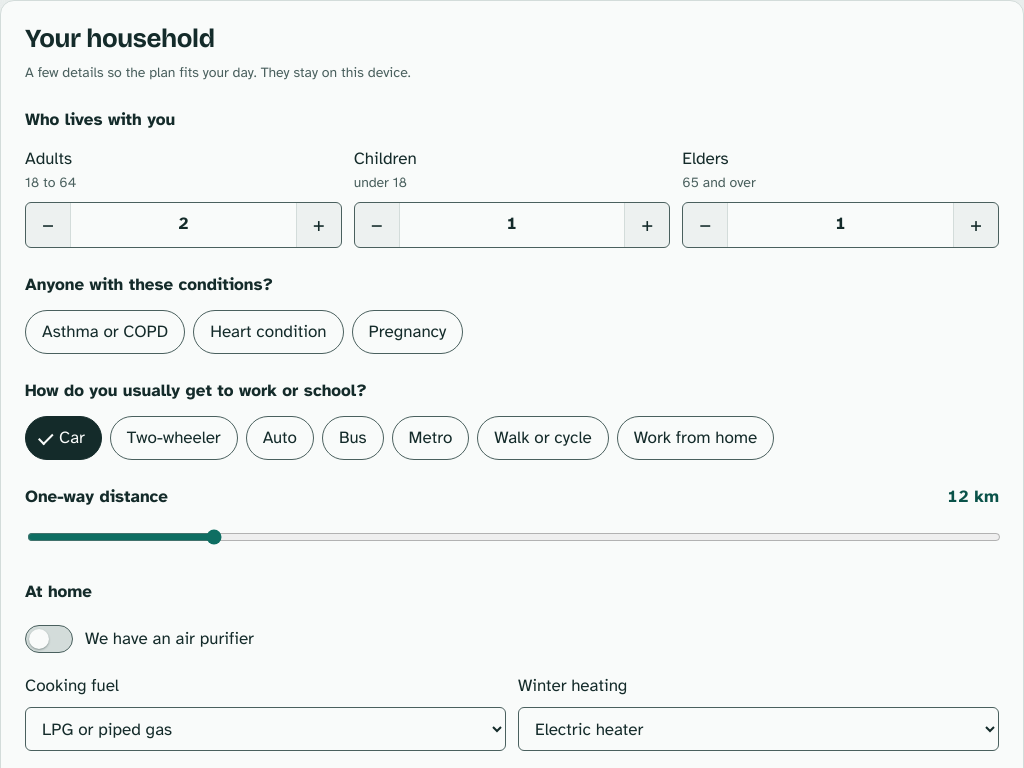
Scenario: HouseholdForm inputs › lets people clear and retype a number, committing only valid values
Clear the number field labelled "Elders 65 and over" at {"x": 841, "y": 225}, box [727, 203, 954, 247]
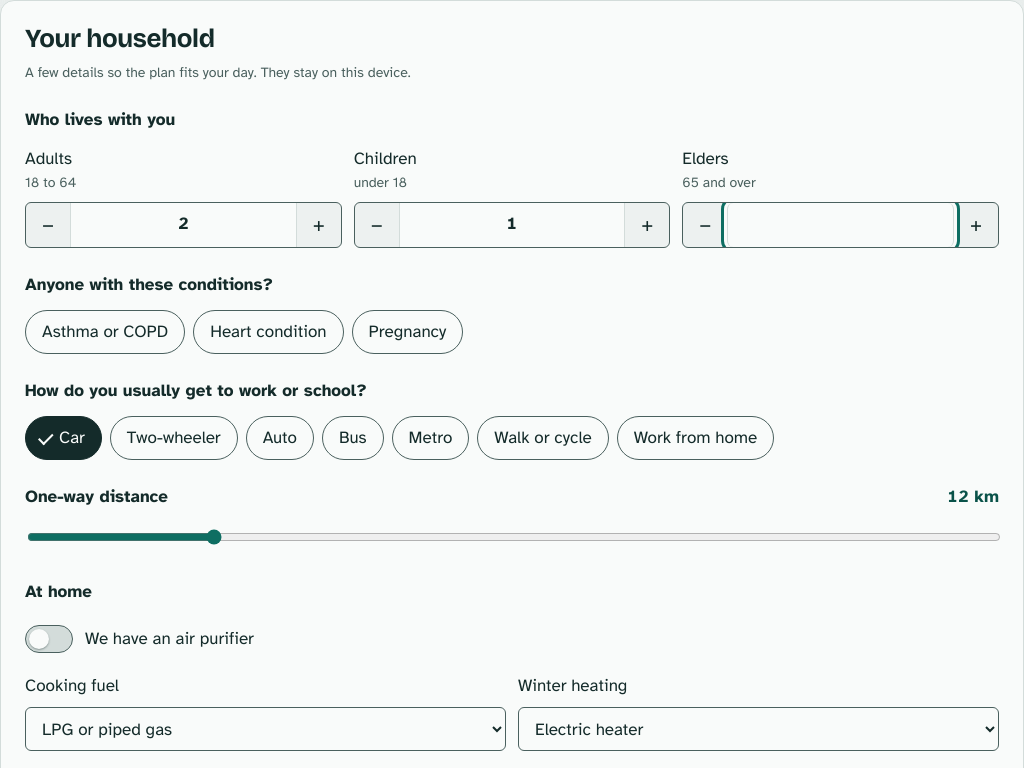
Type "3" into the number field labelled "Elders 65 and over" at {"x": 841, "y": 225}, box [727, 203, 954, 247]
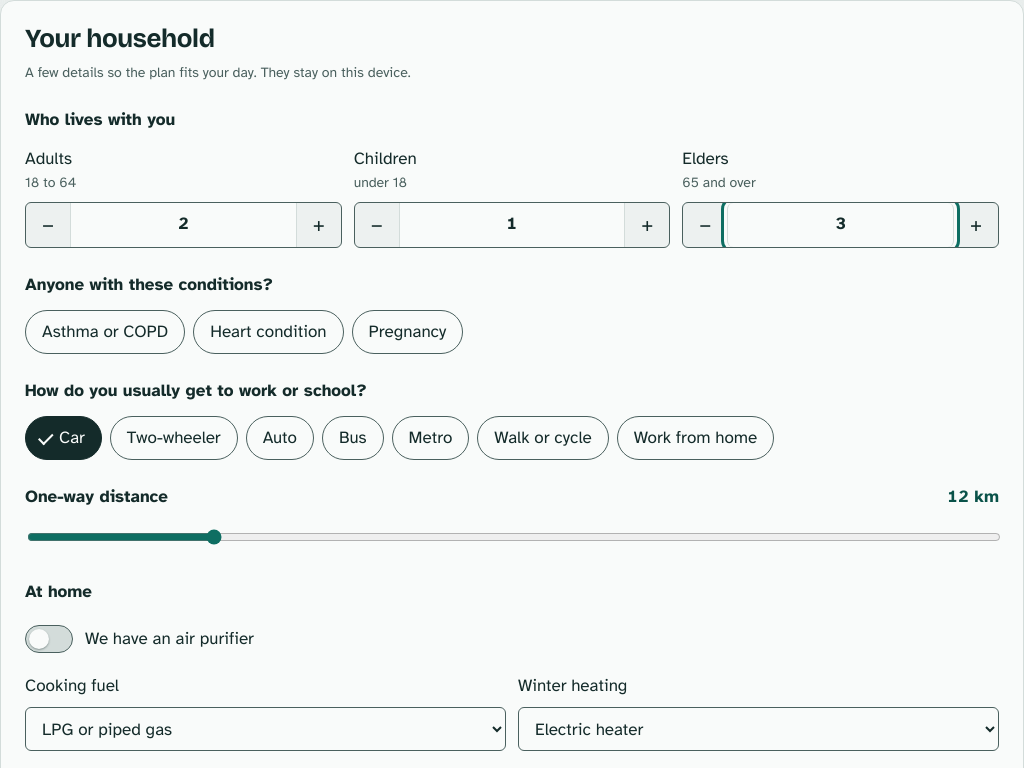
Replace the text in the number field labelled "Elders 65 and over" with "99" at {"x": 841, "y": 225}, box [727, 203, 954, 247]
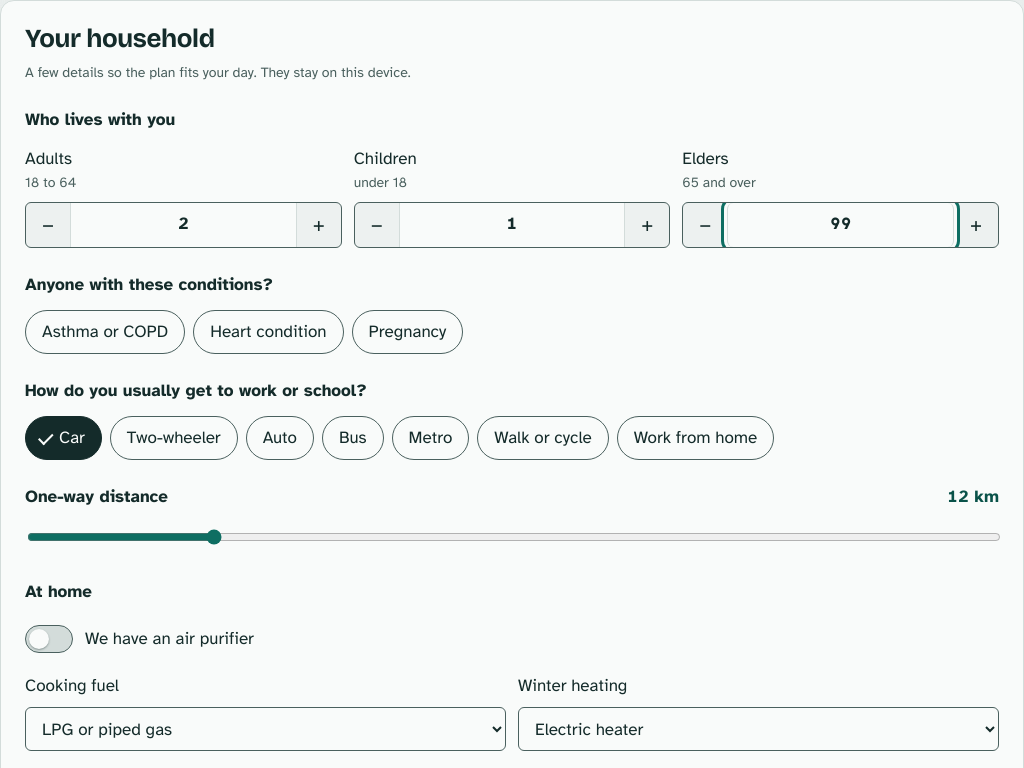
// Leaving the field snaps the display back to the committed value.
Press Tab
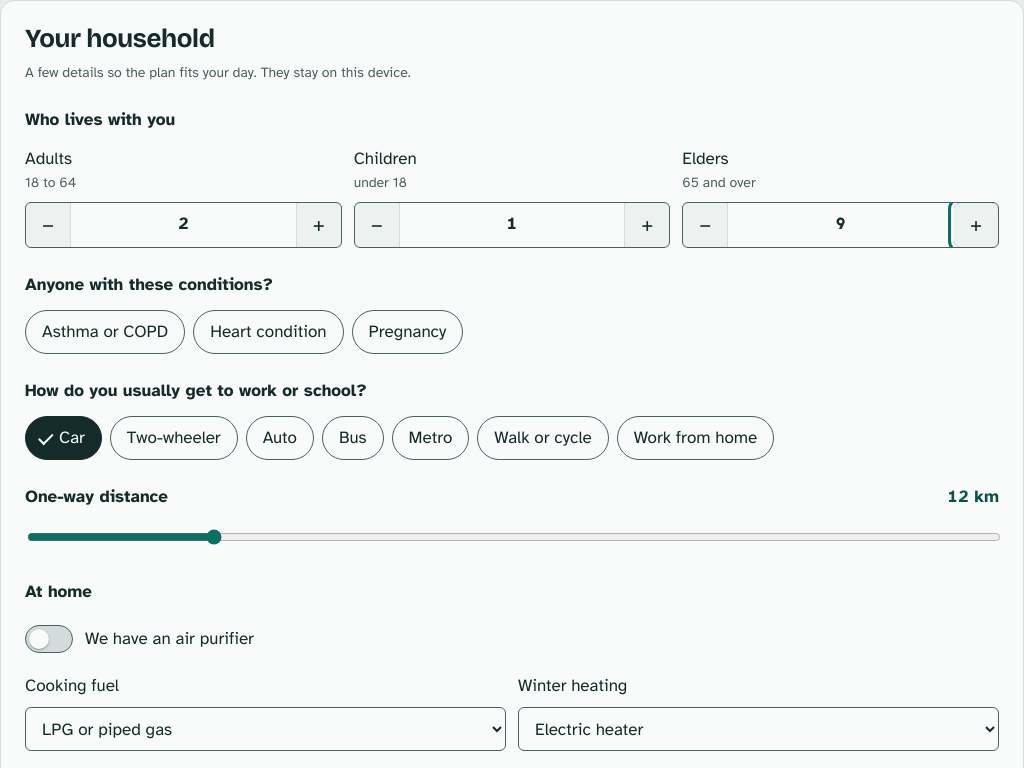
Check: the number field labelled "Elders 65 and over" holds "9", box [727, 203, 954, 247]
